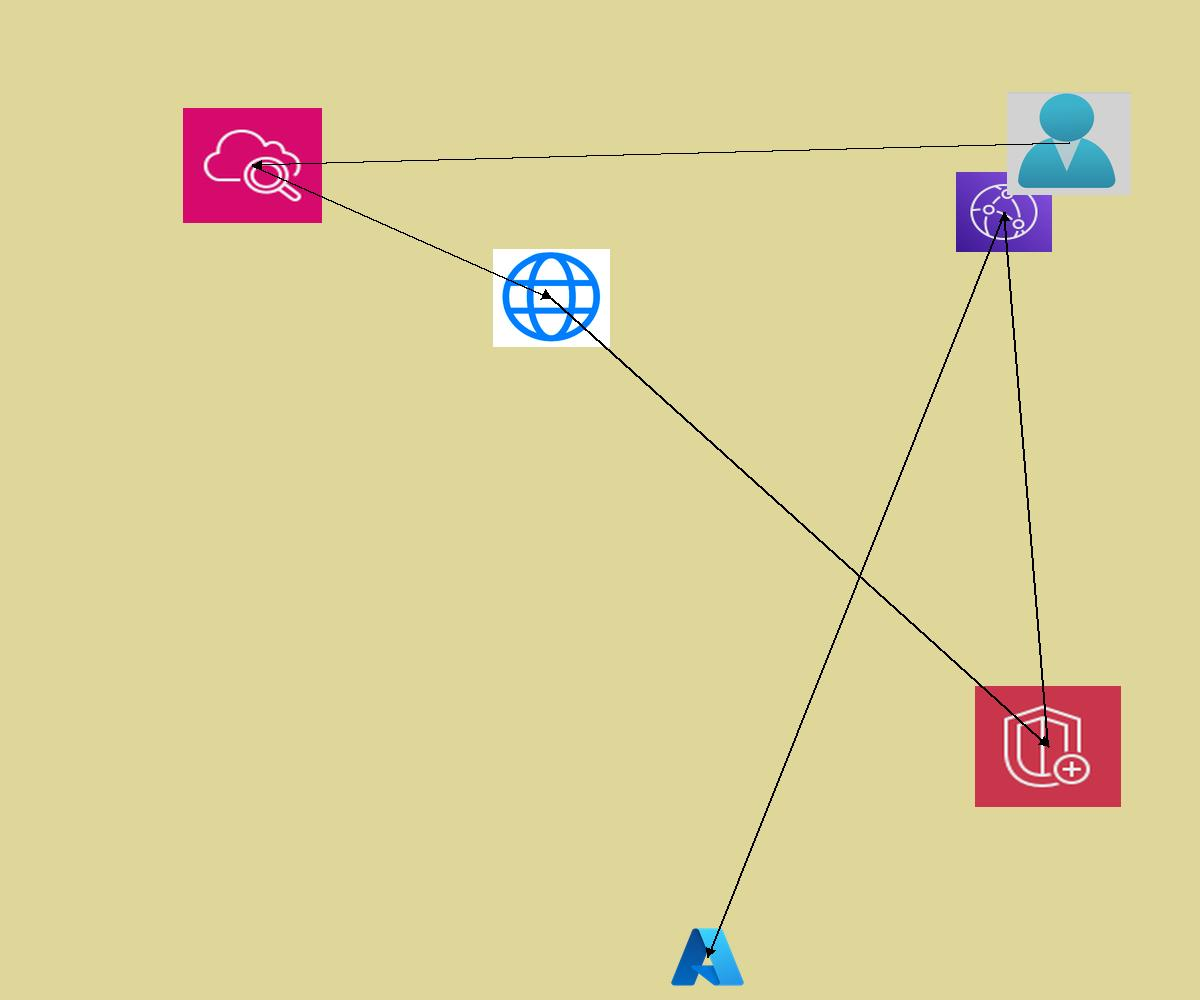AWS-CloudFront: (956, 172, 1052, 252)
AWS-CloudWatch: (183, 108, 322, 223)
AWS-Shield: (975, 686, 1121, 807)
Azure_http: (493, 249, 610, 347)
Azure_services: (668, 924, 747, 990)
Azure_users: (1007, 92, 1131, 195)
